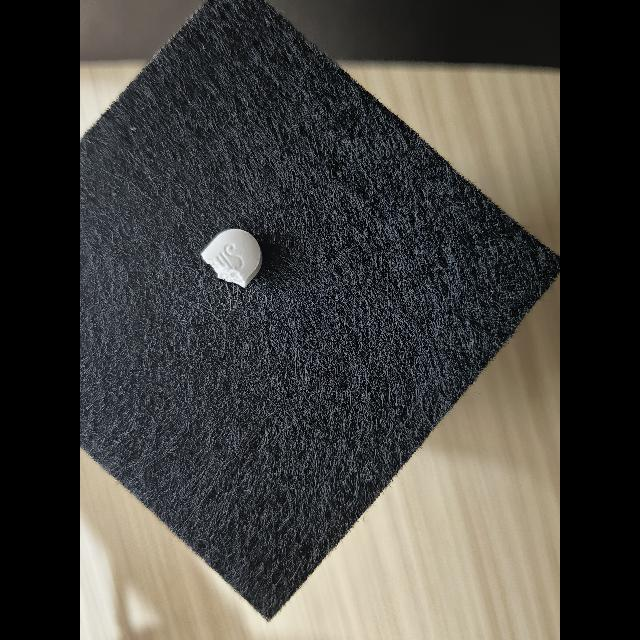Chipped Pill: (201, 229, 262, 288)
